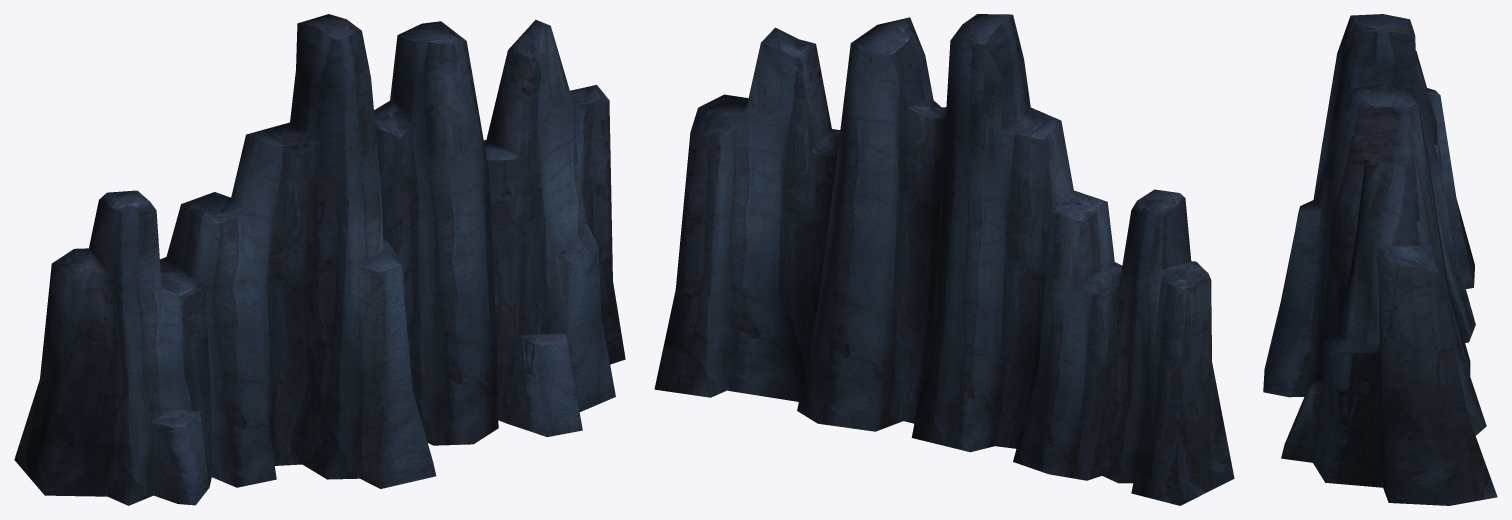
File: Vo_N_Cliff01.FBX
The picture shows the model from 3 angles, left to right: view 1: azimuth 30°, elevation 25°; view 2: azimuth 150°, elevation 25°; view 3: azimuth 270°, elevation 25°; orthographic projection. The views are drawn at different scales.
Visible parts, largest first — view 1: Vo_N_Cliff01; view 2: Vo_N_Cliff01; view 3: Vo_N_Cliff01.
Boxes of the visible parts, x1,y1,x2,y2 form: Vo_N_Cliff01: [14, 14, 625, 505]; Vo_N_Cliff01: [654, 14, 1234, 505]; Vo_N_Cliff01: [1263, 14, 1497, 505].
Bounding box in the file's own units: 1817 × 1228 × 731.
